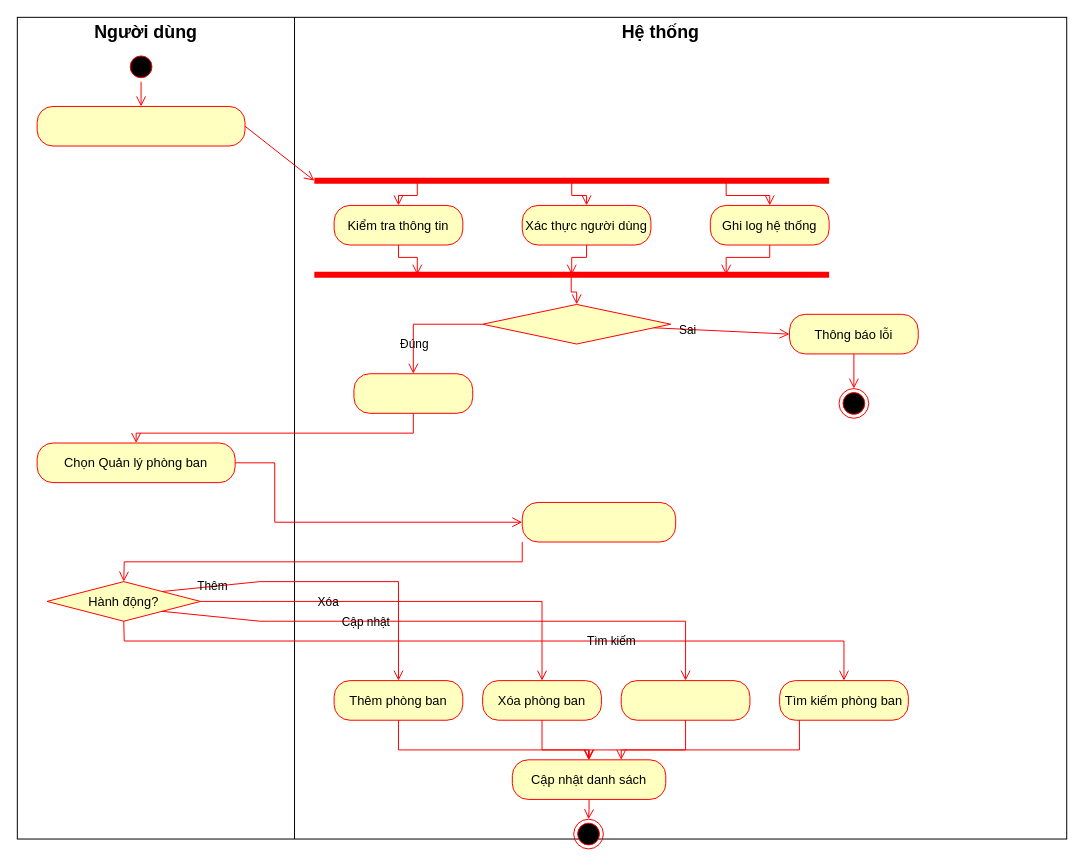
The diagram is 1084 pixels wide and 866 high, and some of its shapes have lost their labels. The shapes that lost their labels are listed below. From the top down, each one's centre as x and y in pixels, then its label:
At (x=140, y=125): "Nhập thông tin đăng nhập".
At (x=576, y=323): "Đăng nhập hợp lệ?".
At (x=413, y=393): "Hiển thị menu".
At (x=598, y=521): "Xem danh sách phòng ban".
At (x=685, y=700): "Cập nhật phòng ban".
